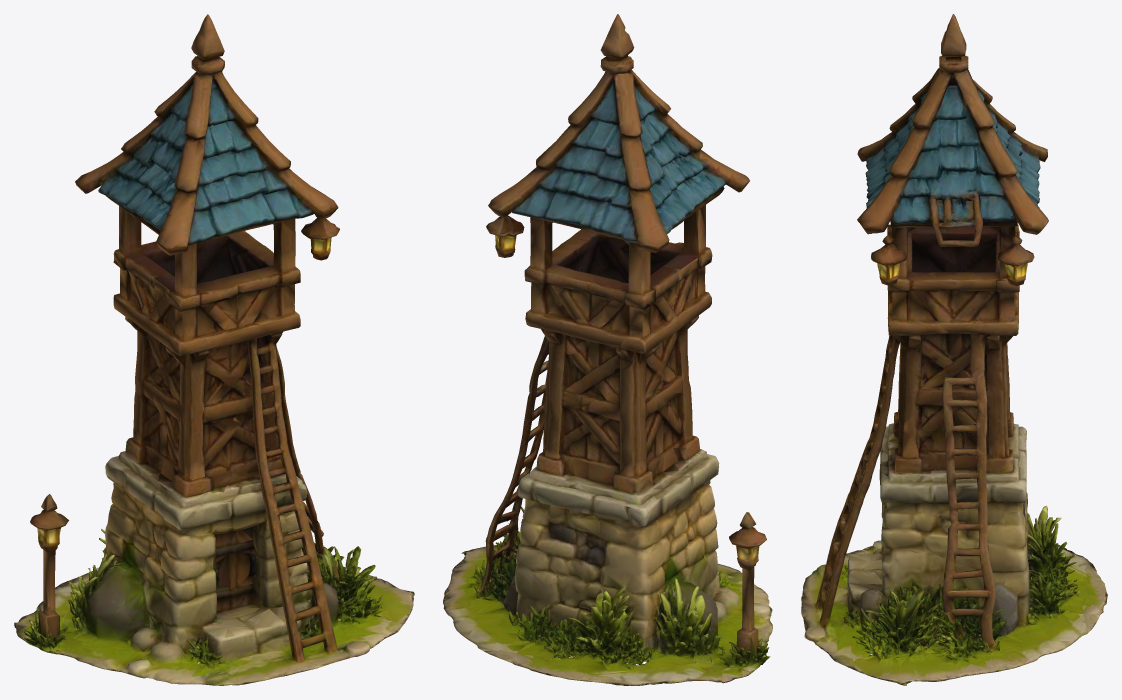
File: Watchtower_T1.glb
3 renders of one model, left to right at view 1: azimuth 30°, elevation 25°; view 2: azimuth 150°, elevation 25°; view 3: azimuth 270°, elevation 25°, orthographic. The views are drawn at different scales.
Parts seen in each view (by area): view 1: Watchtower_T1; view 2: Watchtower_T1; view 3: Watchtower_T1.
Part boxes in pixels (x1,y1,x2,y2): Watchtower_T1: (14,14,414,685); Watchtower_T1: (443,14,772,685); Watchtower_T1: (801,14,1107,685).
Bounding box in the file's own units: 1.15 × 1.9 × 0.9018.
Materials: 1 (1 with a texture image).
